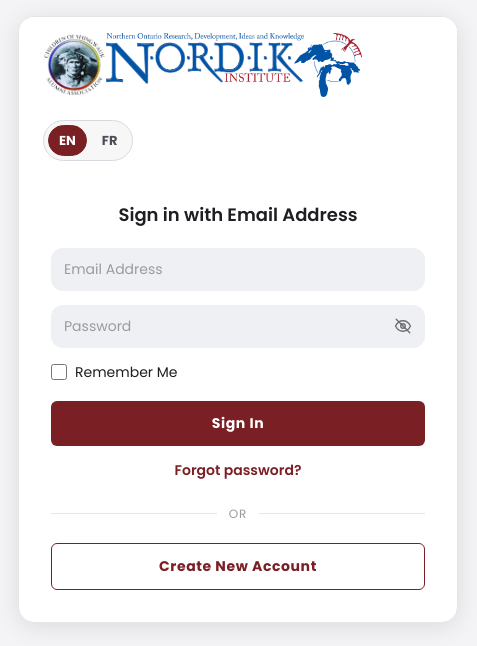
Test case: LoginPage › switches the login page copy to french from the header toggle
Click the button "FR": (110, 140) [91, 124, 128, 156]
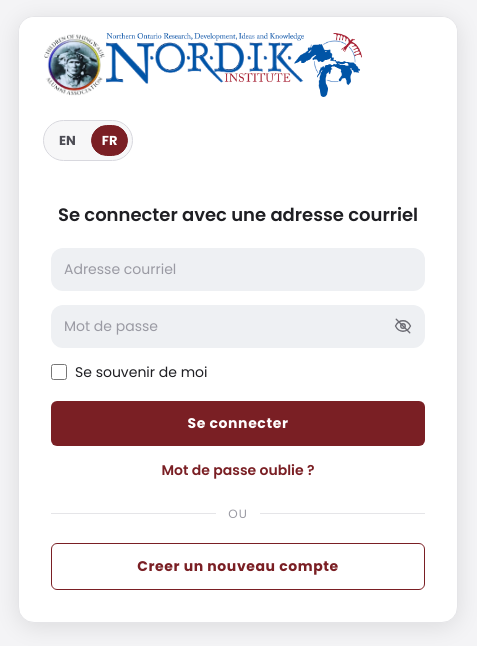
expect the heading "Se connecter avec une adresse courriel" is shown: met, box [51, 200, 425, 228]
expect the button "Creer un nouveau compte" is shown: met, box [51, 542, 425, 590]
